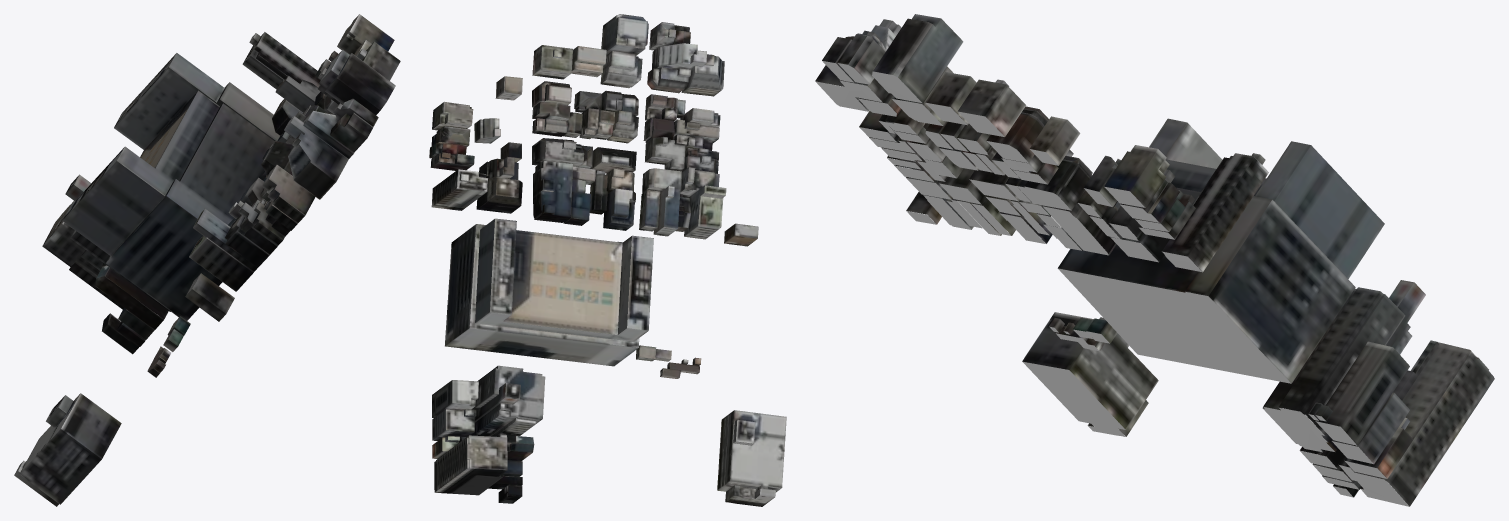
3 views of the same model, side by side, from view 1: azimuth 30°, elevation 25°; view 2: azimuth 150°, elevation 25°; view 3: azimuth 270°, elevation 25° (orthographic). The views are drawn at different scales.
Size of the model in its own units: 136 by 152 by 172.
Materials: 2 (1 with a texture image).
